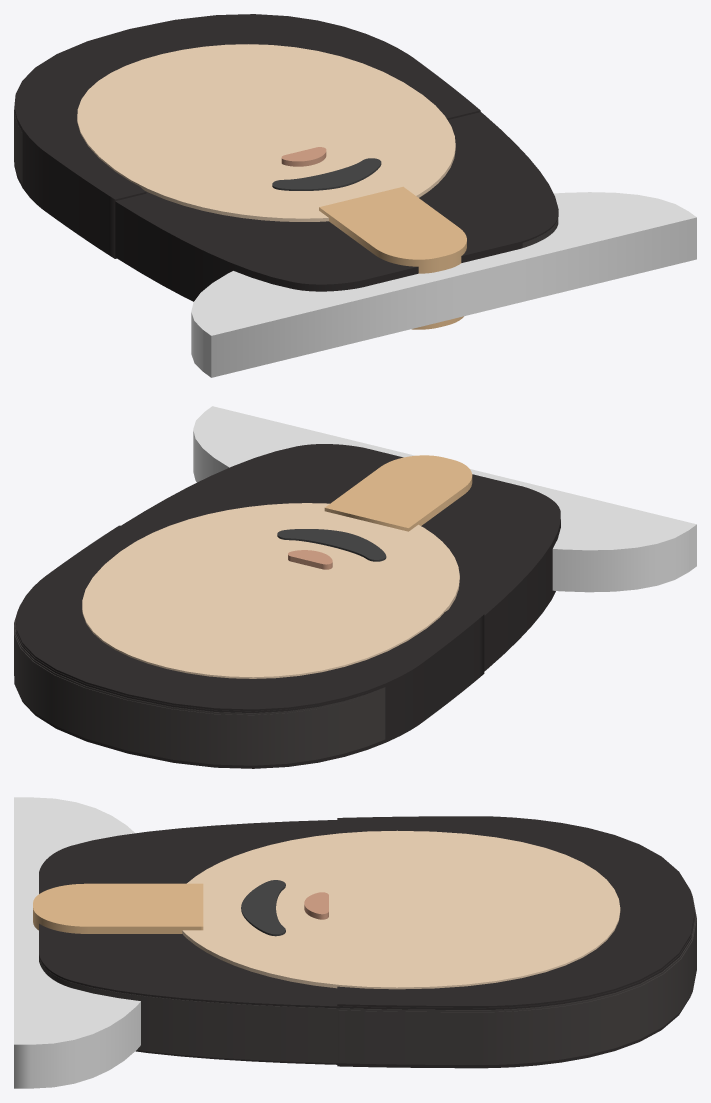
The model's file is emoji_u1f469_1f3fb_200d_2695.glb.
3 renders of one model, top to bottom at view 1: azimuth 30°, elevation 25°; view 2: azimuth 150°, elevation 25°; view 3: azimuth 270°, elevation 25°, orthographic. The views are drawn at different scales.
Visible parts, largest first — view 1: emoji_u1f469_1f3fb_200d_2695; view 2: emoji_u1f469_1f3fb_200d_2695; view 3: emoji_u1f469_1f3fb_200d_2695.
Boxes of the visible parts, <box> form: emoji_u1f469_1f3fb_200d_2695: <box>14,14,696,377</box>; emoji_u1f469_1f3fb_200d_2695: <box>14,406,696,768</box>; emoji_u1f469_1f3fb_200d_2695: <box>14,797,696,1088</box>.
Size of the model in its own units: 0.029 by 0.0042 by 0.0339.
